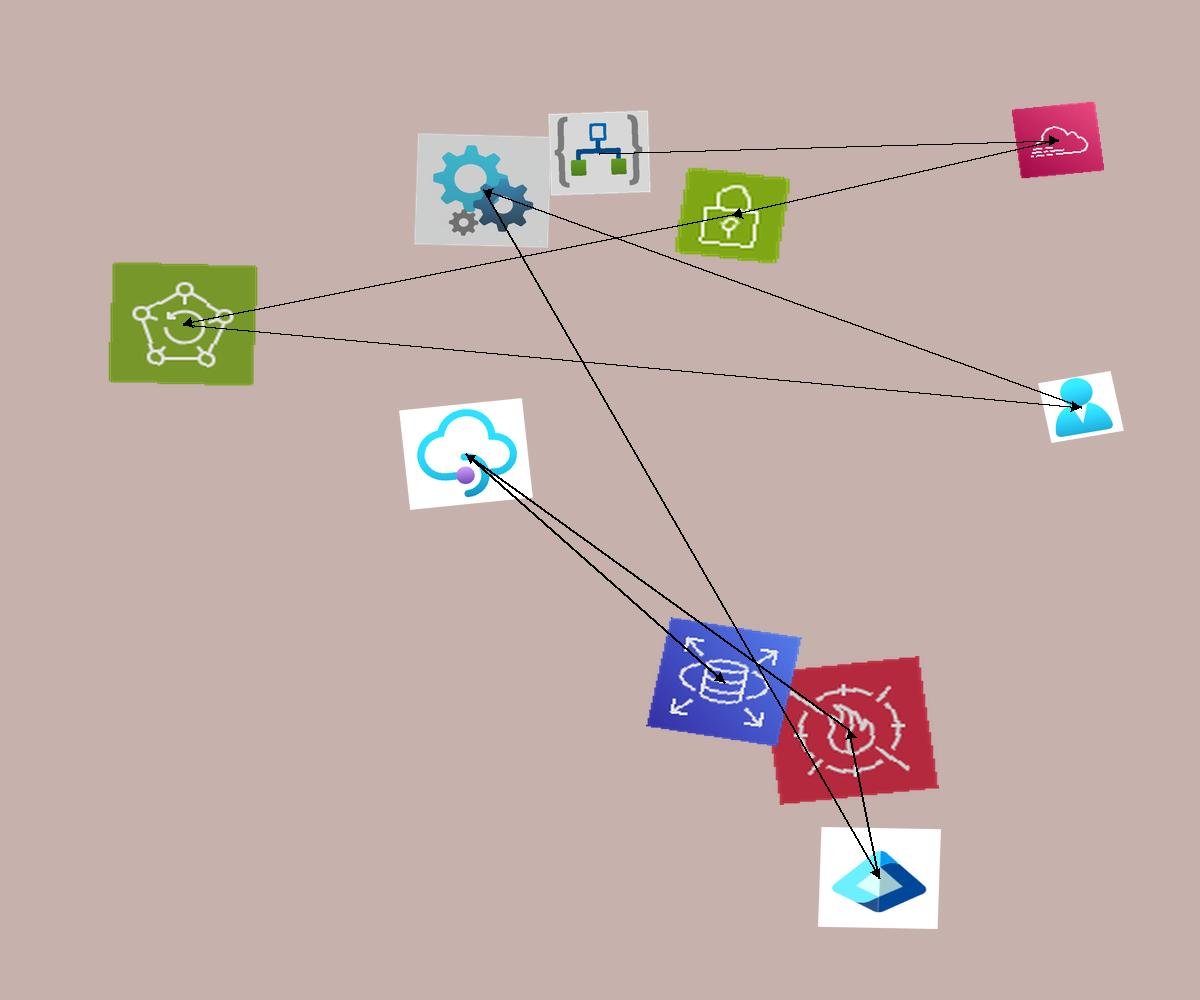AWS-Backup: (107, 261, 259, 387)
AWS-CloudTrail: (1011, 101, 1105, 179)
AWS-Public-subnet: (673, 166, 792, 265)
AWS-RDS: (646, 617, 802, 747)
AWS-WAF: (760, 656, 939, 805)
Azure_api: (414, 133, 552, 248)
Azure_api_gateway: (399, 398, 533, 510)
Azure_integration-204-Logic-Apps: (548, 110, 651, 196)
Azure_microsoft_entra: (818, 827, 941, 929)
Azure_users: (1038, 371, 1124, 443)
